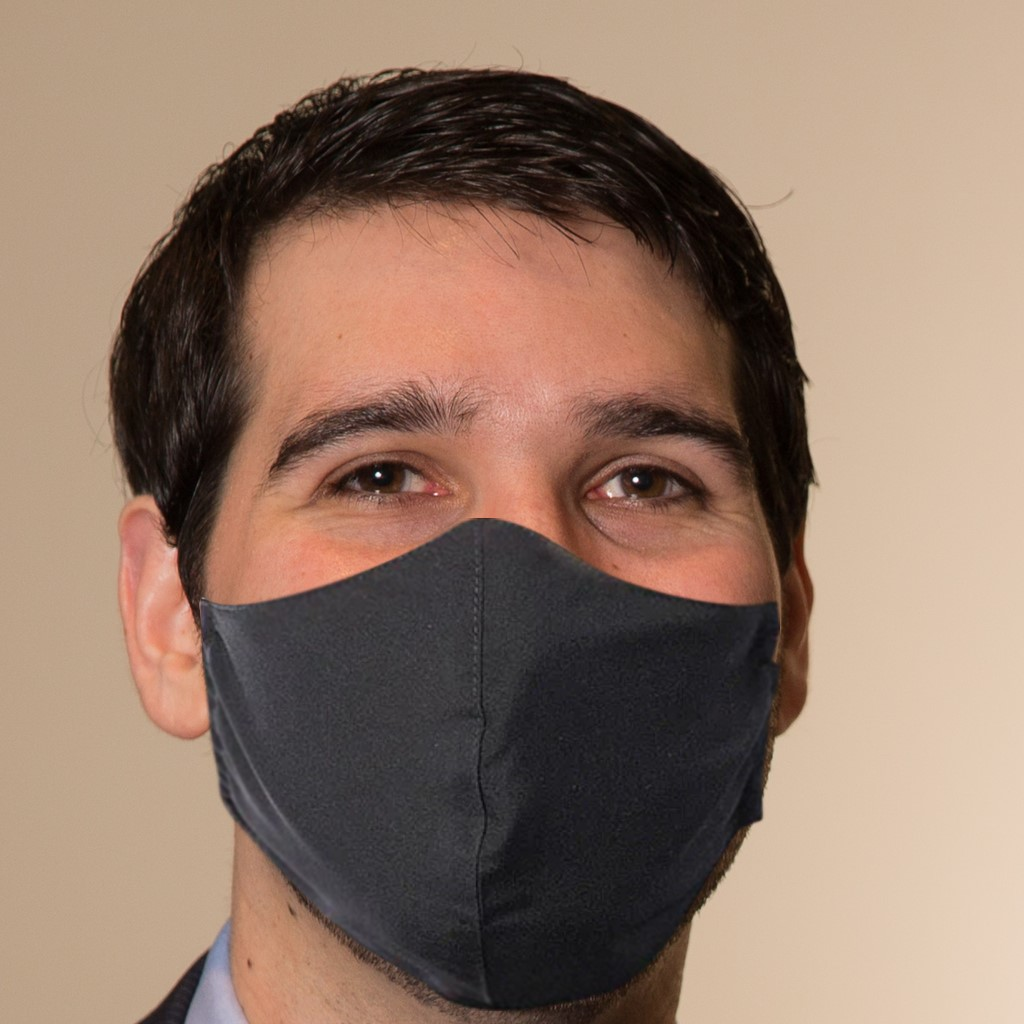con_mascara: (202, 160, 787, 993)
